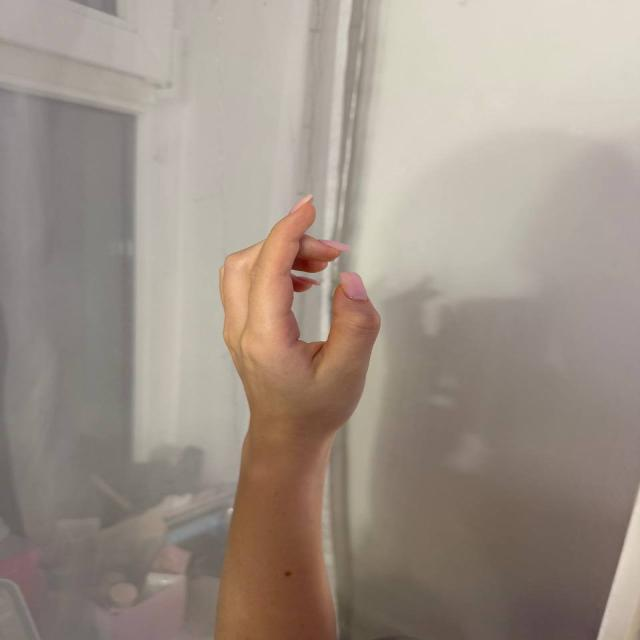b: (220, 186, 424, 416)
